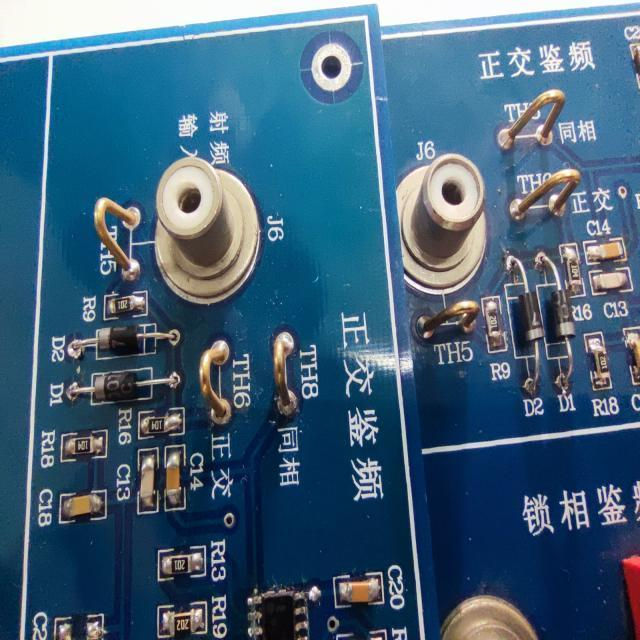Missing component: (28, 609, 118, 640)
